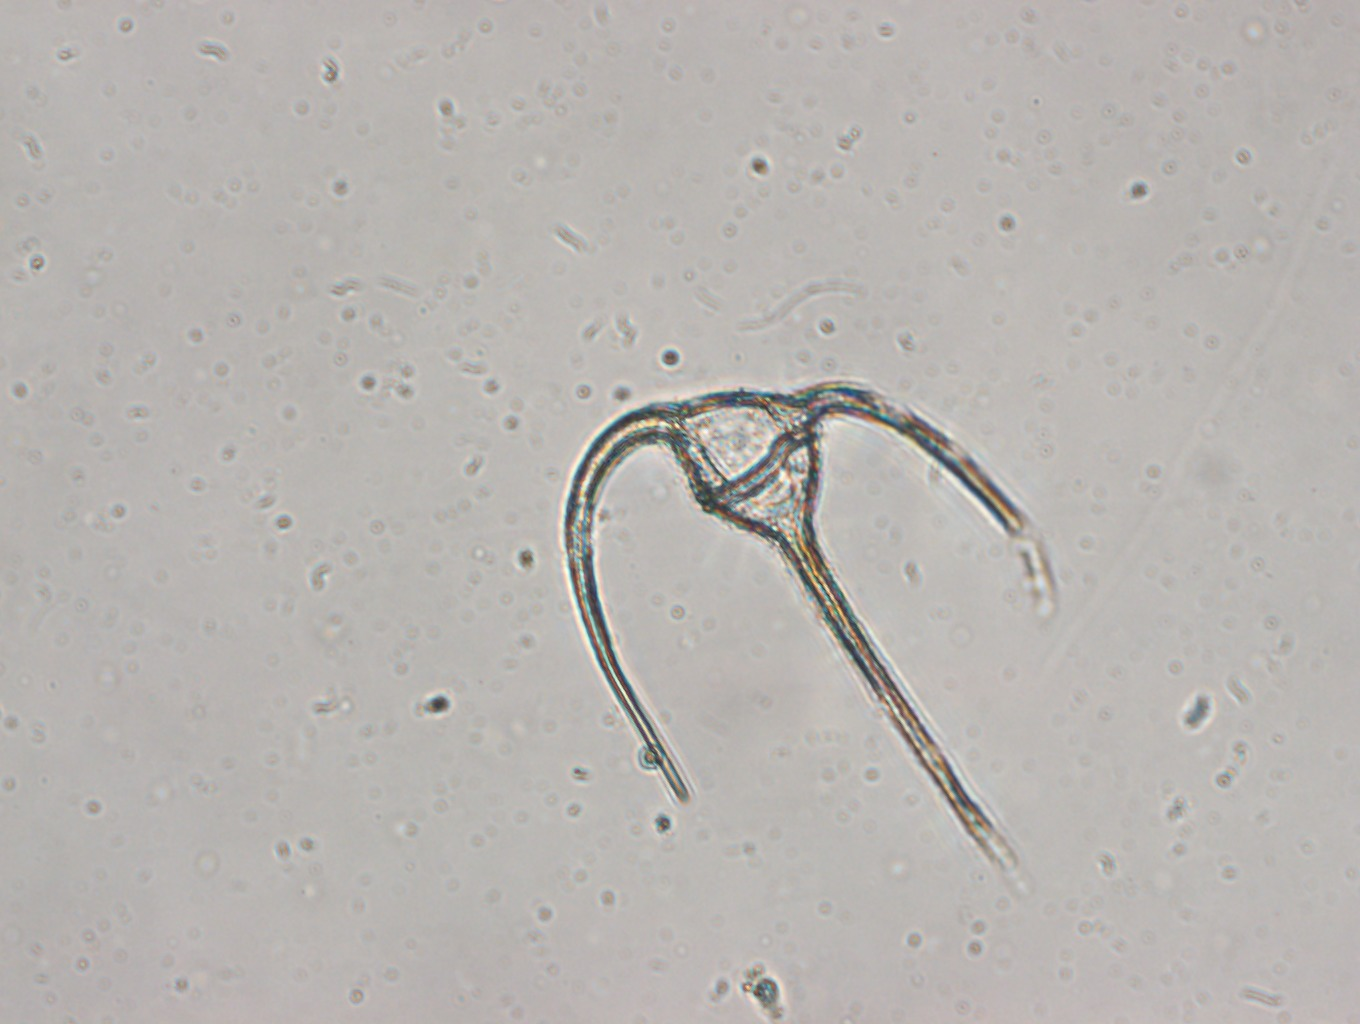ceratium trichoceros: (545, 376, 1096, 894)
